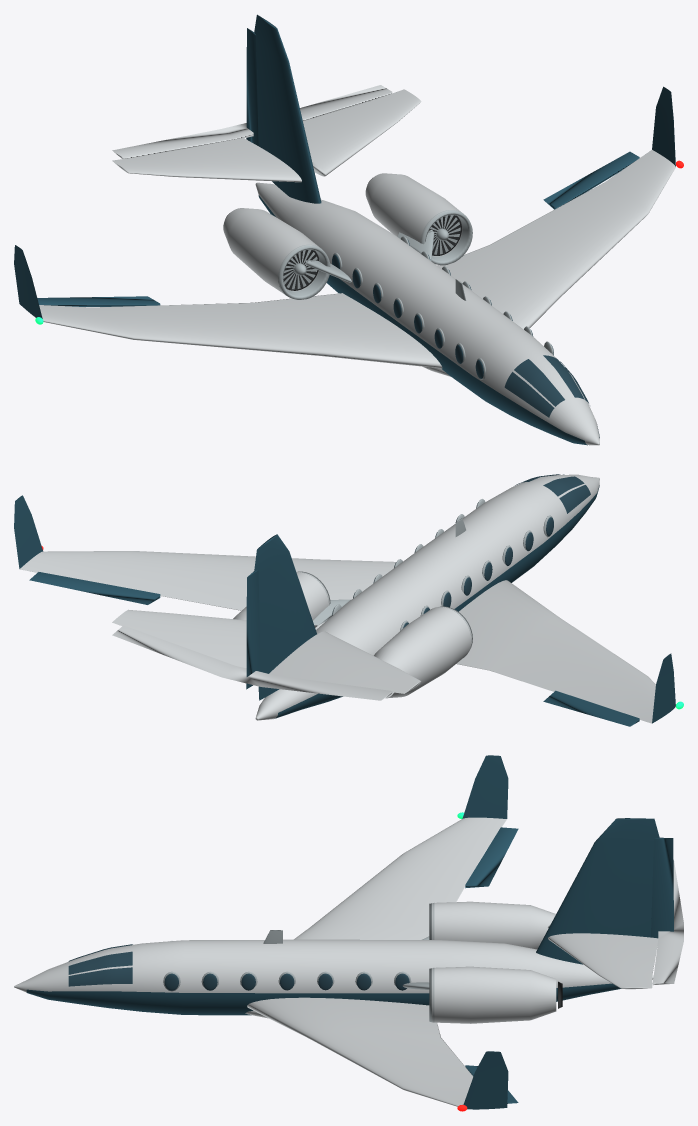
The model's file is aerion.glb.
3 renders of one model, top to bottom at view 1: azimuth 30°, elevation 25°; view 2: azimuth 150°, elevation 25°; view 3: azimuth 270°, elevation 25°, orthographic. The views are drawn at different scales.
Parts seen in each view (by area): view 1: aerion, Elevator, AileronL, Rudder, AileronR; view 2: aerion, Elevator, AileronL, Rudder, AileronR; view 3: aerion, Rudder, Elevator, AileronR.
Boxes of the visible parts, x1,y1,x2,y2 form: aerion: (14, 14, 683, 445); Elevator: (112, 85, 392, 158); AileronL: (543, 151, 639, 209); Rudder: (246, 28, 258, 145); AileronR: (37, 296, 160, 306); aerion: (14, 474, 683, 723); Elevator: (112, 625, 392, 700); AileronL: (29, 572, 160, 604); Rudder: (246, 570, 260, 689); AileronR: (543, 690, 639, 726); aerion: (14, 755, 659, 1111); Rudder: (651, 837, 673, 938); Elevator: (652, 861, 683, 985); AileronR: (465, 827, 518, 888).
Bounding box in the file's own units: 16.4 × 5.03 × 15.69.
